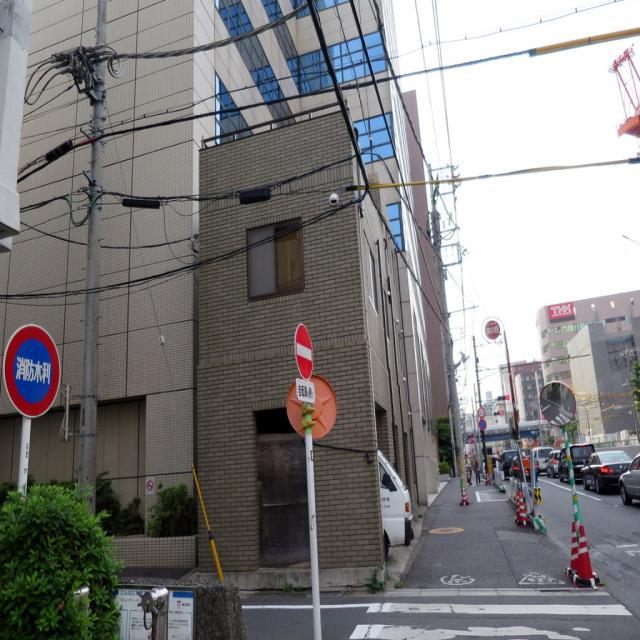road_sign: (294, 322, 314, 380)
